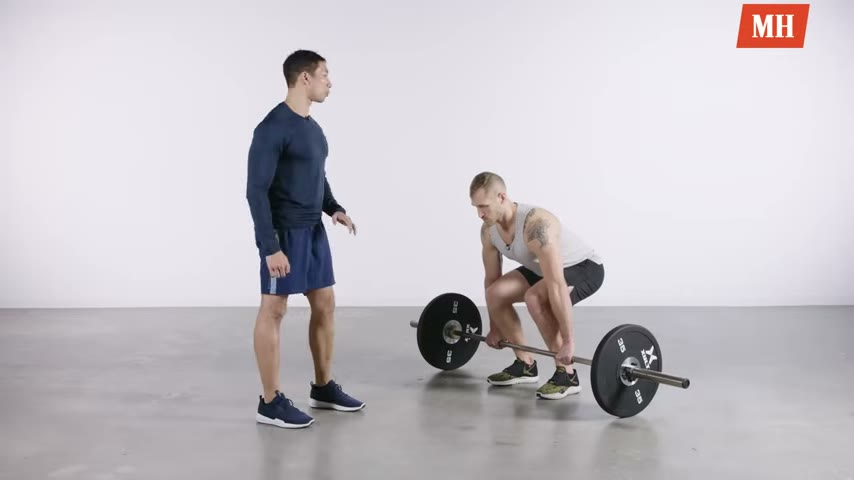barbell_plate_side: (409, 292, 481, 417), (614, 318, 694, 430)
